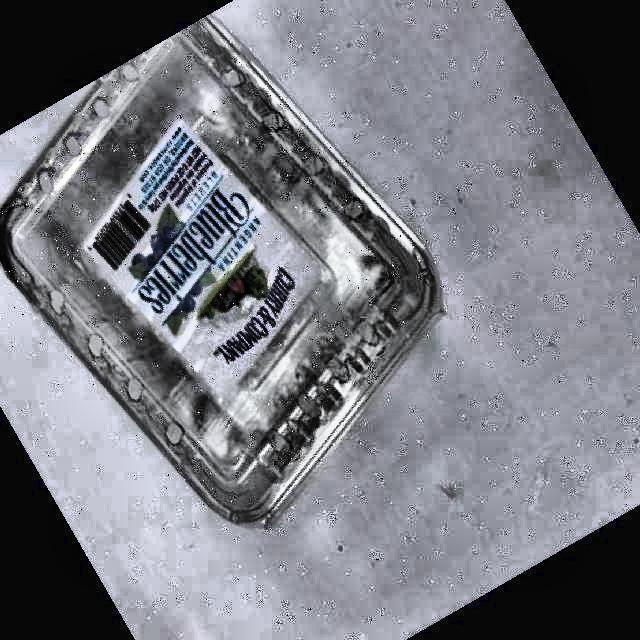plastic: (0, 19, 441, 522)
